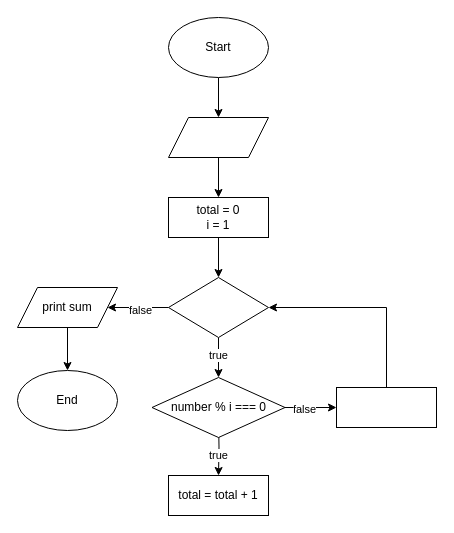
The diagram is 454 pixels wide and 533 high, and some of its shapes have lost their labels. The shapes that lost their labels are listed below. From the top down, each one's centre as x and y in pixels, then its label:
At point (218, 137): "Number".
At point (218, 307): "i <= number".
At point (386, 407): "i = i + 1".
